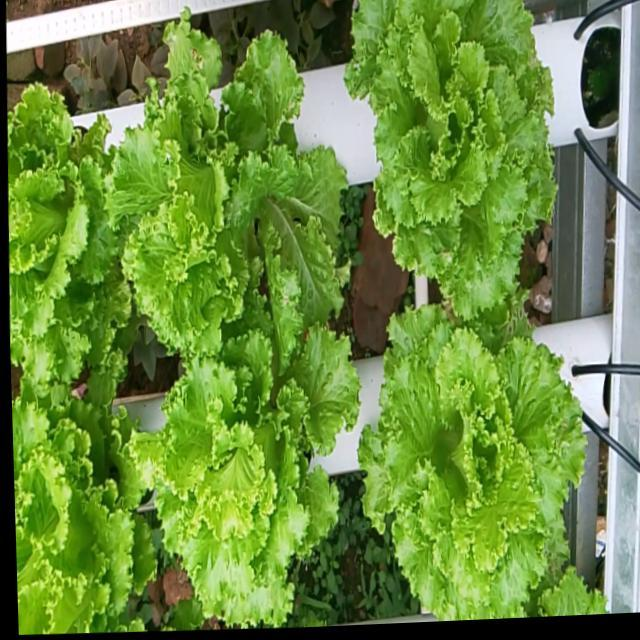Mature: (109, 1, 348, 363), (359, 308, 592, 622), (345, 0, 558, 328), (132, 331, 361, 629), (12, 373, 156, 634), (7, 90, 131, 390)
